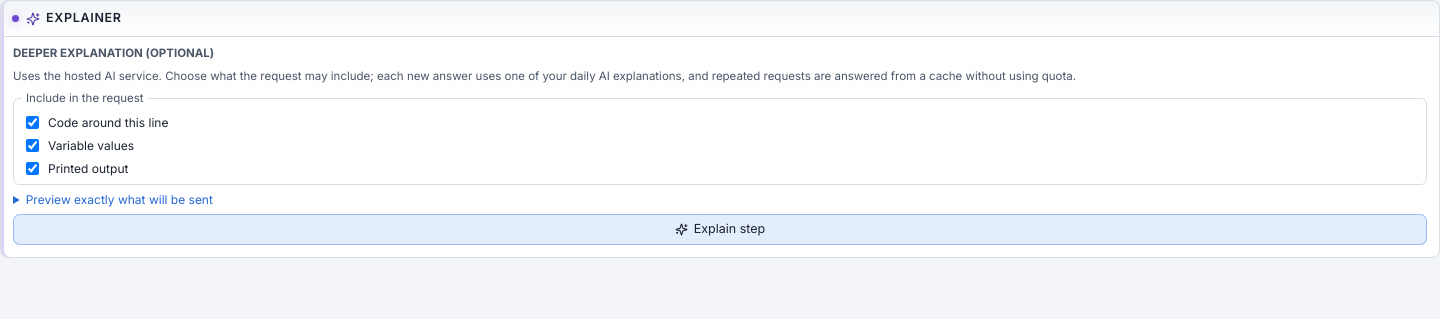
Test: ExplainerPanel › requests a hosted DeepSeek explanation for the current step
What coordinates should you click on to do the following:
click the button "Explain step"
I would click on:
 (720, 229)
Its box is [13,214,1427,244].
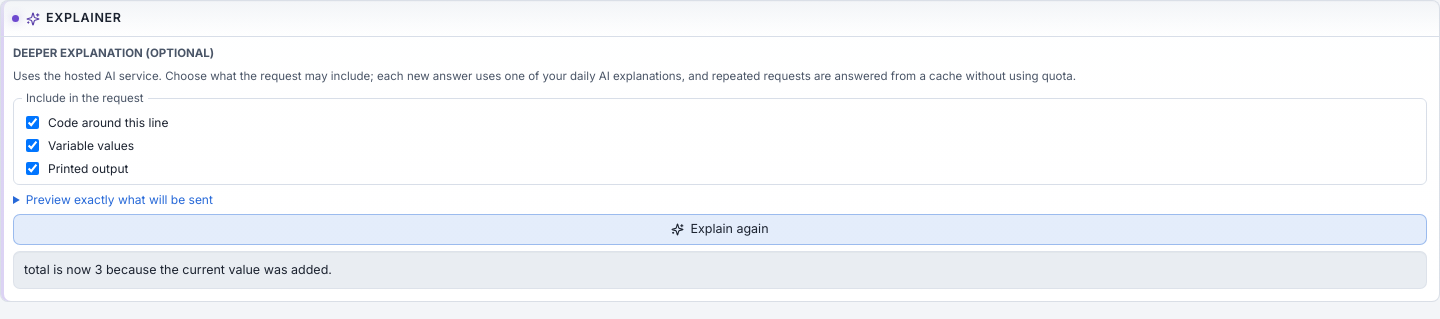
expect the text "total is now 3 because the current value was added." is shown: met, box [24,262,332,276]
